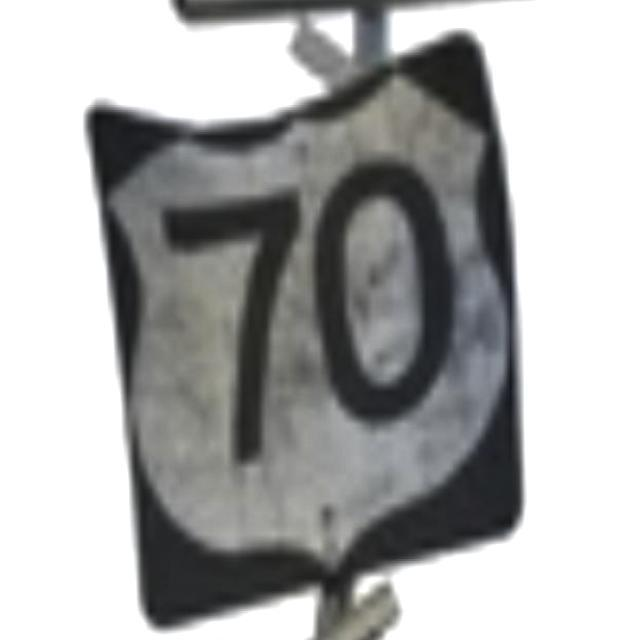damaged_missing_road_sign: (91, 41, 522, 628)
